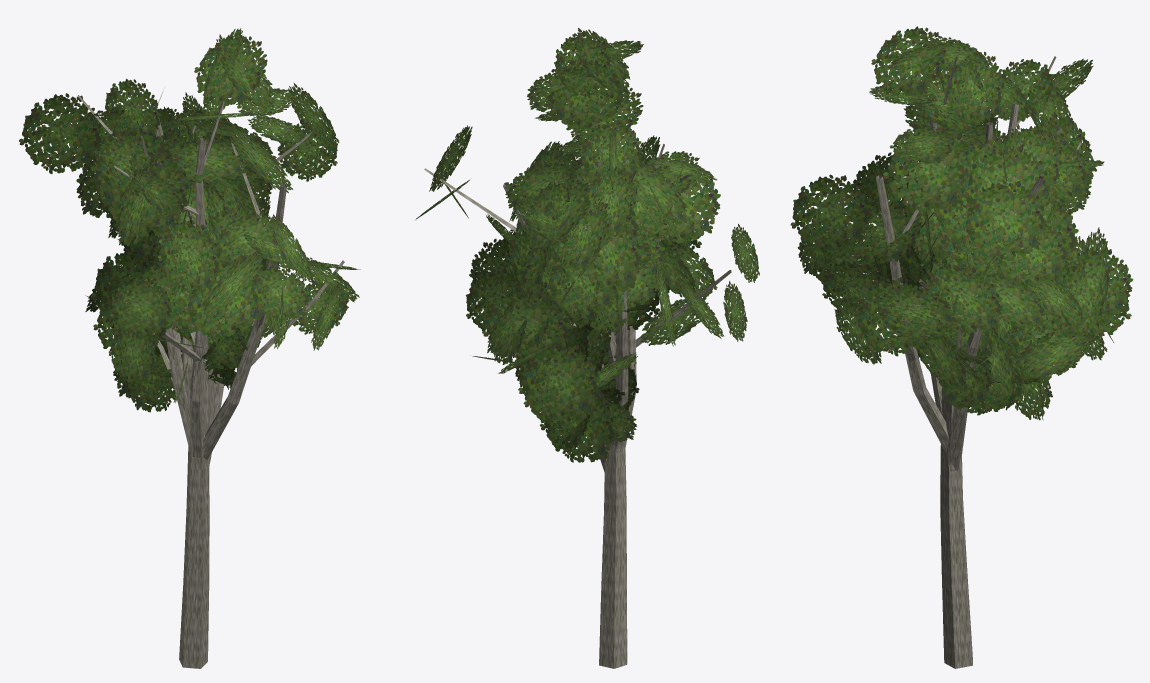
Rendered from Tree_Beech_2_LOD1.gltf.
3 renders of one model, left to right at view 1: azimuth 30°, elevation 25°; view 2: azimuth 150°, elevation 25°; view 3: azimuth 270°, elevation 25°, orthographic. The views are drawn at different scales.
Visible parts, largest first — view 1: Tree_Beech_2_LOD1; view 2: Tree_Beech_2_LOD1; view 3: Tree_Beech_2_LOD1.
Part boxes in pixels (x1,y1,x2,y2): Tree_Beech_2_LOD1: [19, 28, 360, 668]; Tree_Beech_2_LOD1: [415, 28, 759, 668]; Tree_Beech_2_LOD1: [790, 26, 1133, 668].
Size of the model in its own units: 13.18 by 26.9 by 12.94.
Materials: 2 (2 with a texture image).
